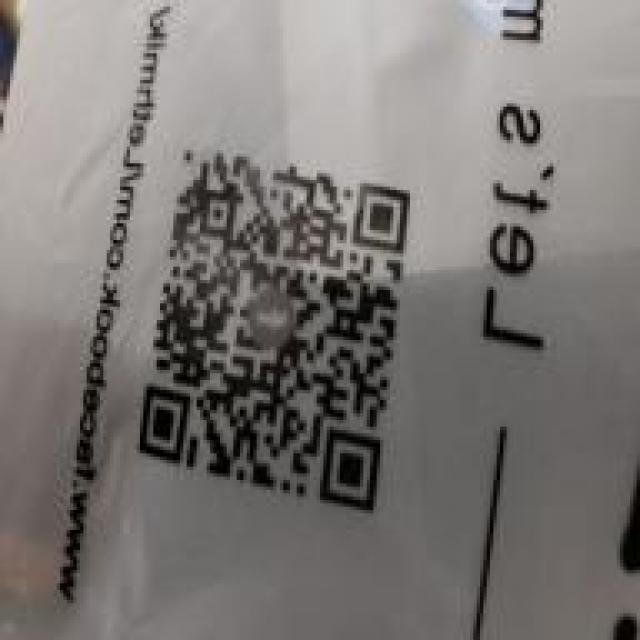QR_CODE: (125, 133, 423, 520)
